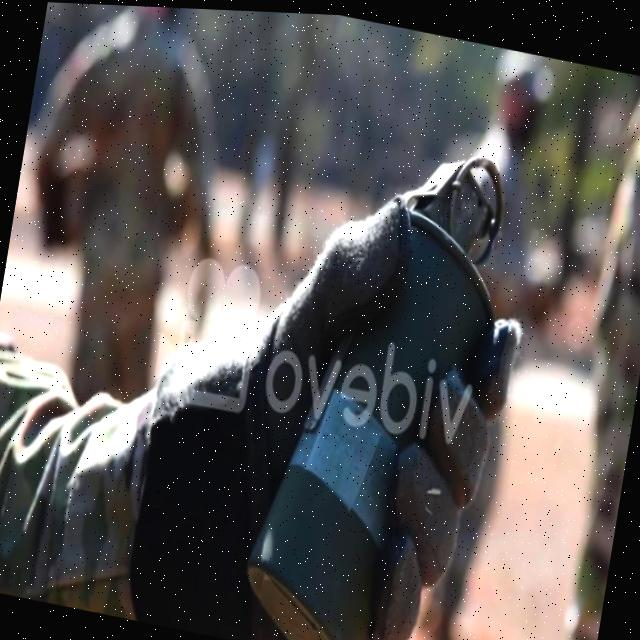grenade: (226, 117, 530, 640)
